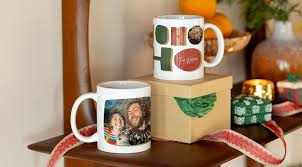mug: (65, 75, 158, 162), (140, 14, 227, 87)
